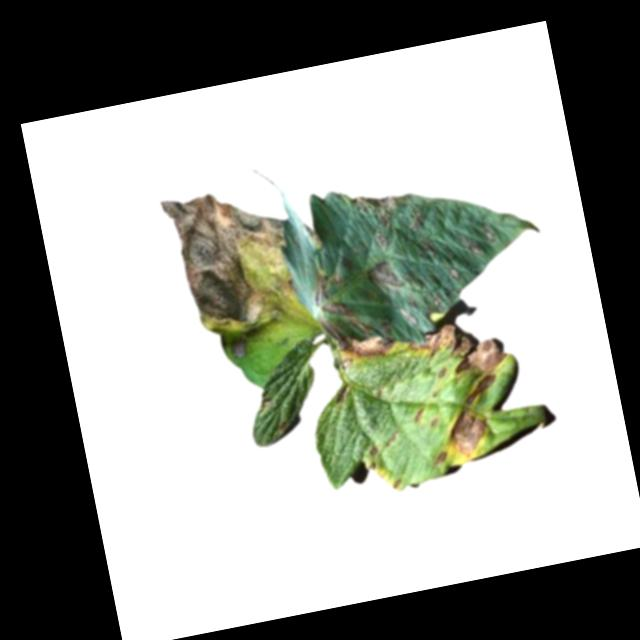Early_blight: (158, 174, 303, 341), (403, 314, 512, 387), (309, 264, 365, 344), (442, 405, 494, 461), (350, 187, 405, 235), (339, 331, 391, 363), (366, 260, 406, 295), (461, 373, 501, 406), (228, 333, 250, 360), (463, 237, 486, 257), (331, 384, 351, 406), (432, 447, 451, 466), (372, 231, 389, 251)
